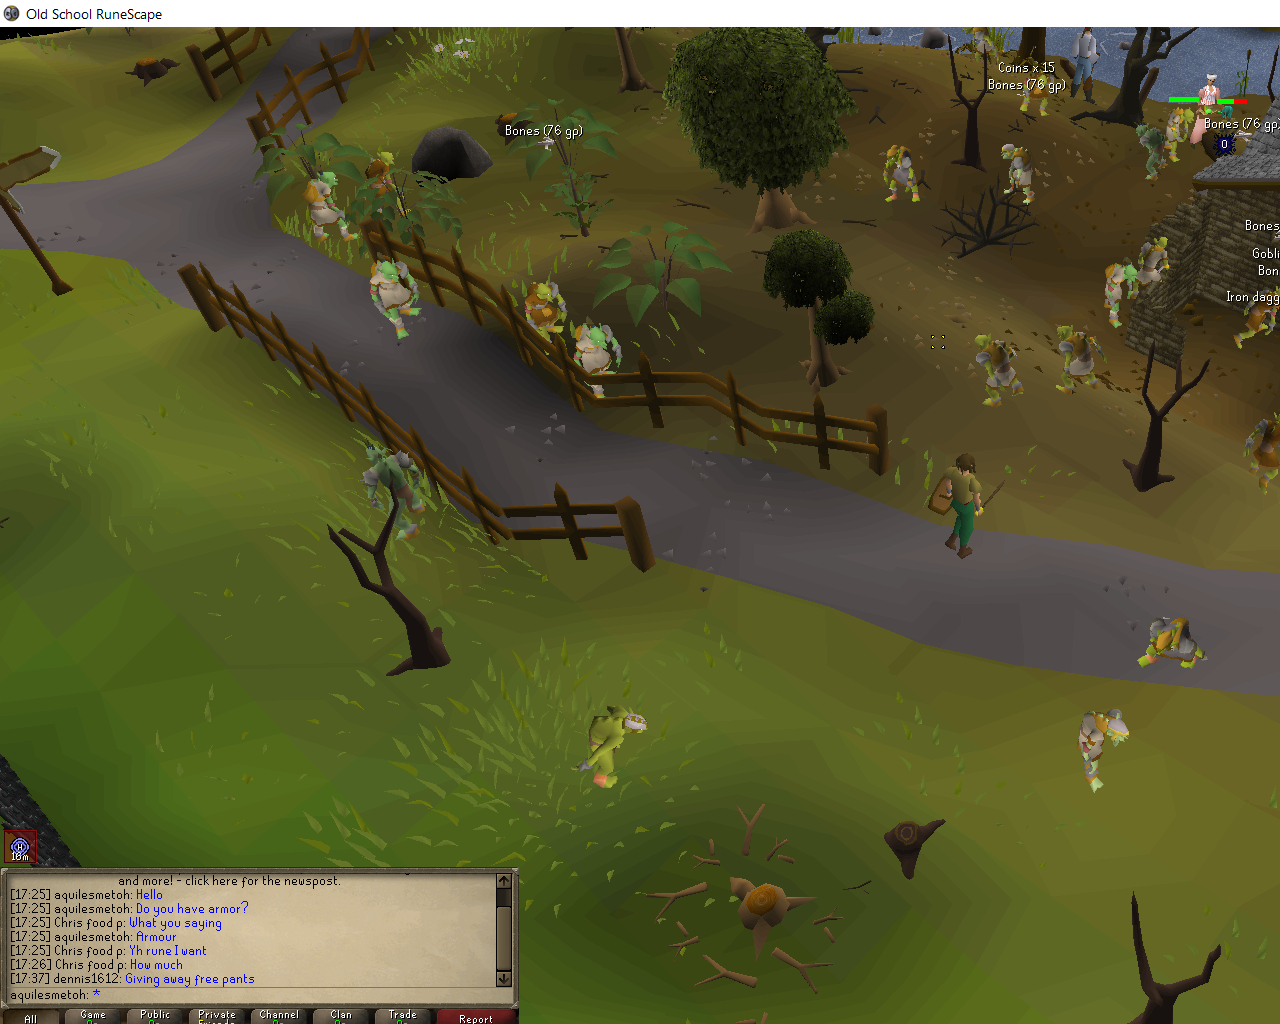Goblin: (355, 441, 446, 546), (577, 698, 652, 794), (358, 257, 437, 342), (296, 166, 363, 250), (569, 320, 634, 401), (969, 328, 1032, 411), (1072, 706, 1132, 794), (1133, 615, 1214, 672), (520, 278, 574, 357), (1047, 324, 1106, 394), (356, 147, 410, 222), (1229, 280, 1280, 349), (1240, 409, 1280, 496), (877, 144, 925, 207), (997, 142, 1042, 206), (1132, 120, 1172, 183), (1137, 235, 1176, 300), (1102, 261, 1138, 328), (1158, 108, 1198, 165), (1018, 74, 1055, 117), (960, 27, 1004, 64)
